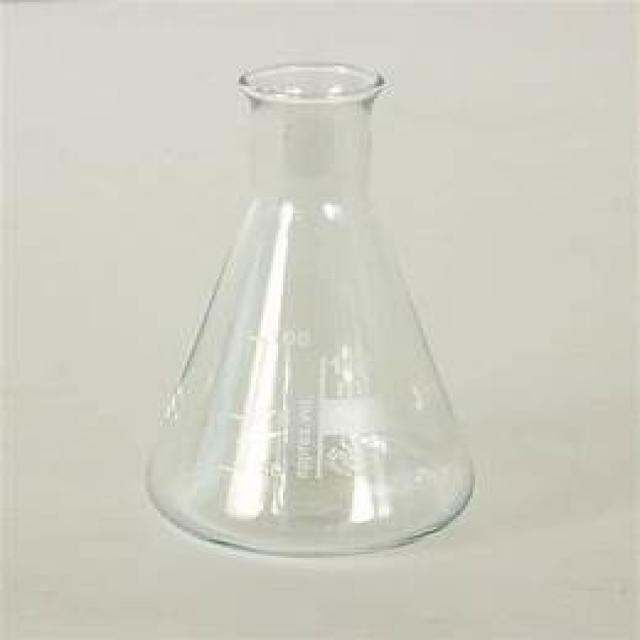Titrarion: (143, 52, 480, 563)
